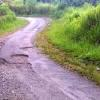Pothole: (0, 52, 41, 78), (8, 52, 34, 61), (18, 43, 33, 50), (0, 37, 6, 48), (31, 27, 38, 33)
